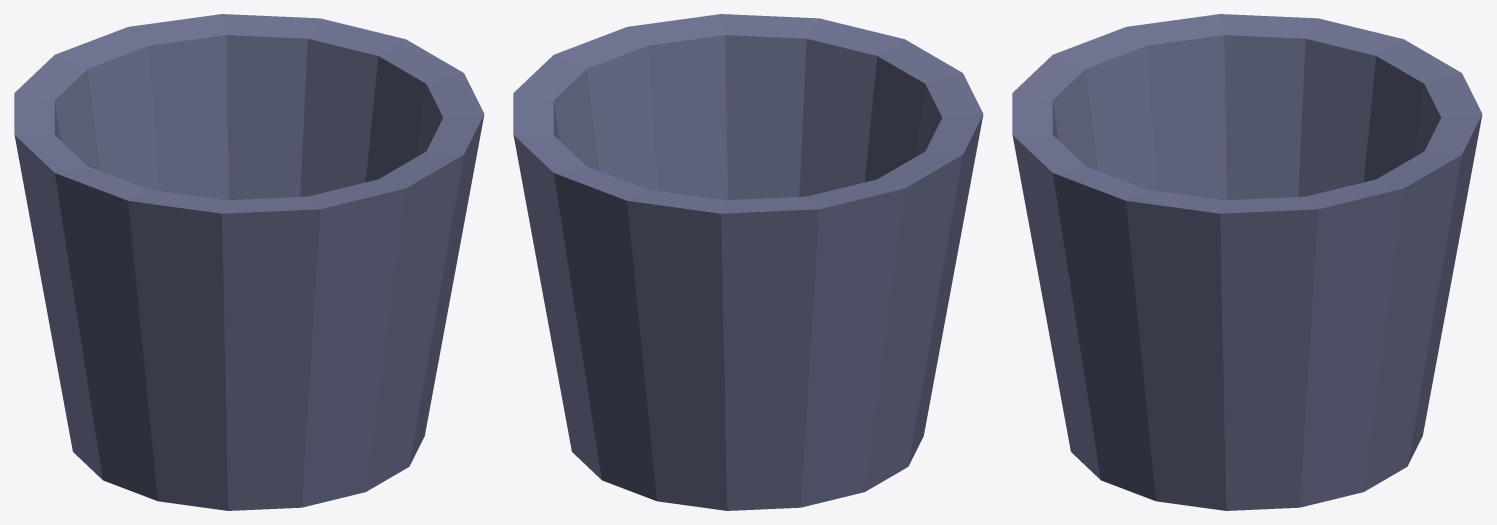
Rendered from trashcan.dae.
3 renders of one model, left to right at view 1: azimuth 30°, elevation 25°; view 2: azimuth 150°, elevation 25°; view 3: azimuth 270°, elevation 25°, orthographic.
Parts seen in each view (by area): view 1: CAN; view 2: CAN; view 3: CAN.
Boxes of the visible parts, x1,y1,x2,y2 form: CAN: (14,14,484,510); CAN: (513,14,983,510); CAN: (1012,14,1482,510).
Size of the model in its own units: 1.68 by 1.68 by 1.27.
